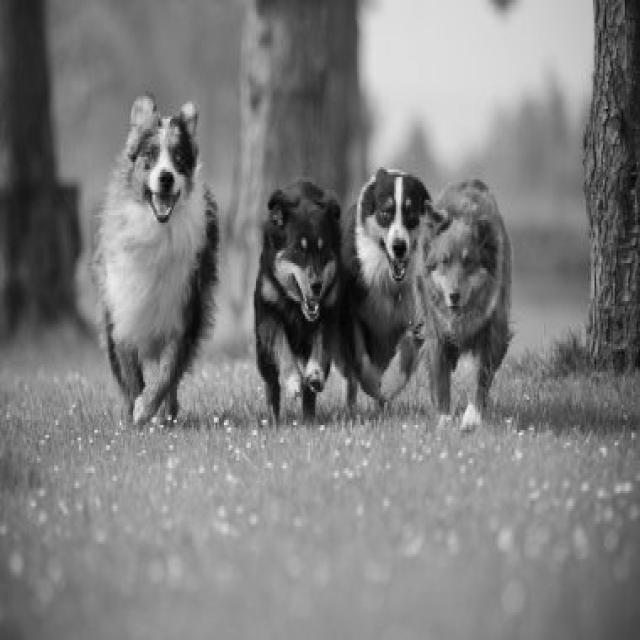Animal: (95, 94, 219, 425), (415, 178, 511, 429), (340, 169, 430, 408), (255, 180, 340, 424)
